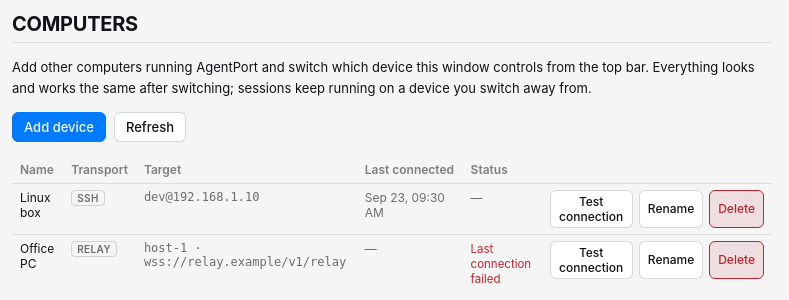
Test: test-connect reports latency on success and structured errors on failure
Check: the text "Linux box" is shown, box [12,183,63,234]
Click the button "Test connection" in the row of "Linux box": (591, 209) [550,190,633,228]
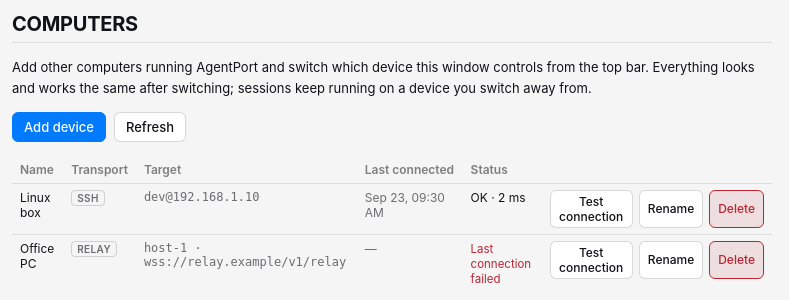
Check: the text "OK · 2 ms" is shown, box [471,190,526,205]
Click the button "Test connection" in the row of "Linux box": (591, 209) [550,190,633,228]
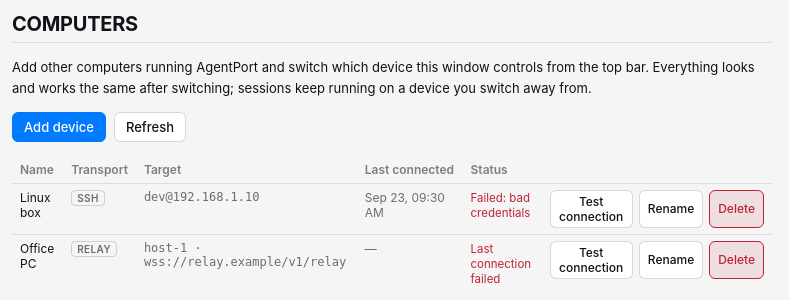
Check: the text "Failed: bad credentials" is shown, box [470,191,530,220]
